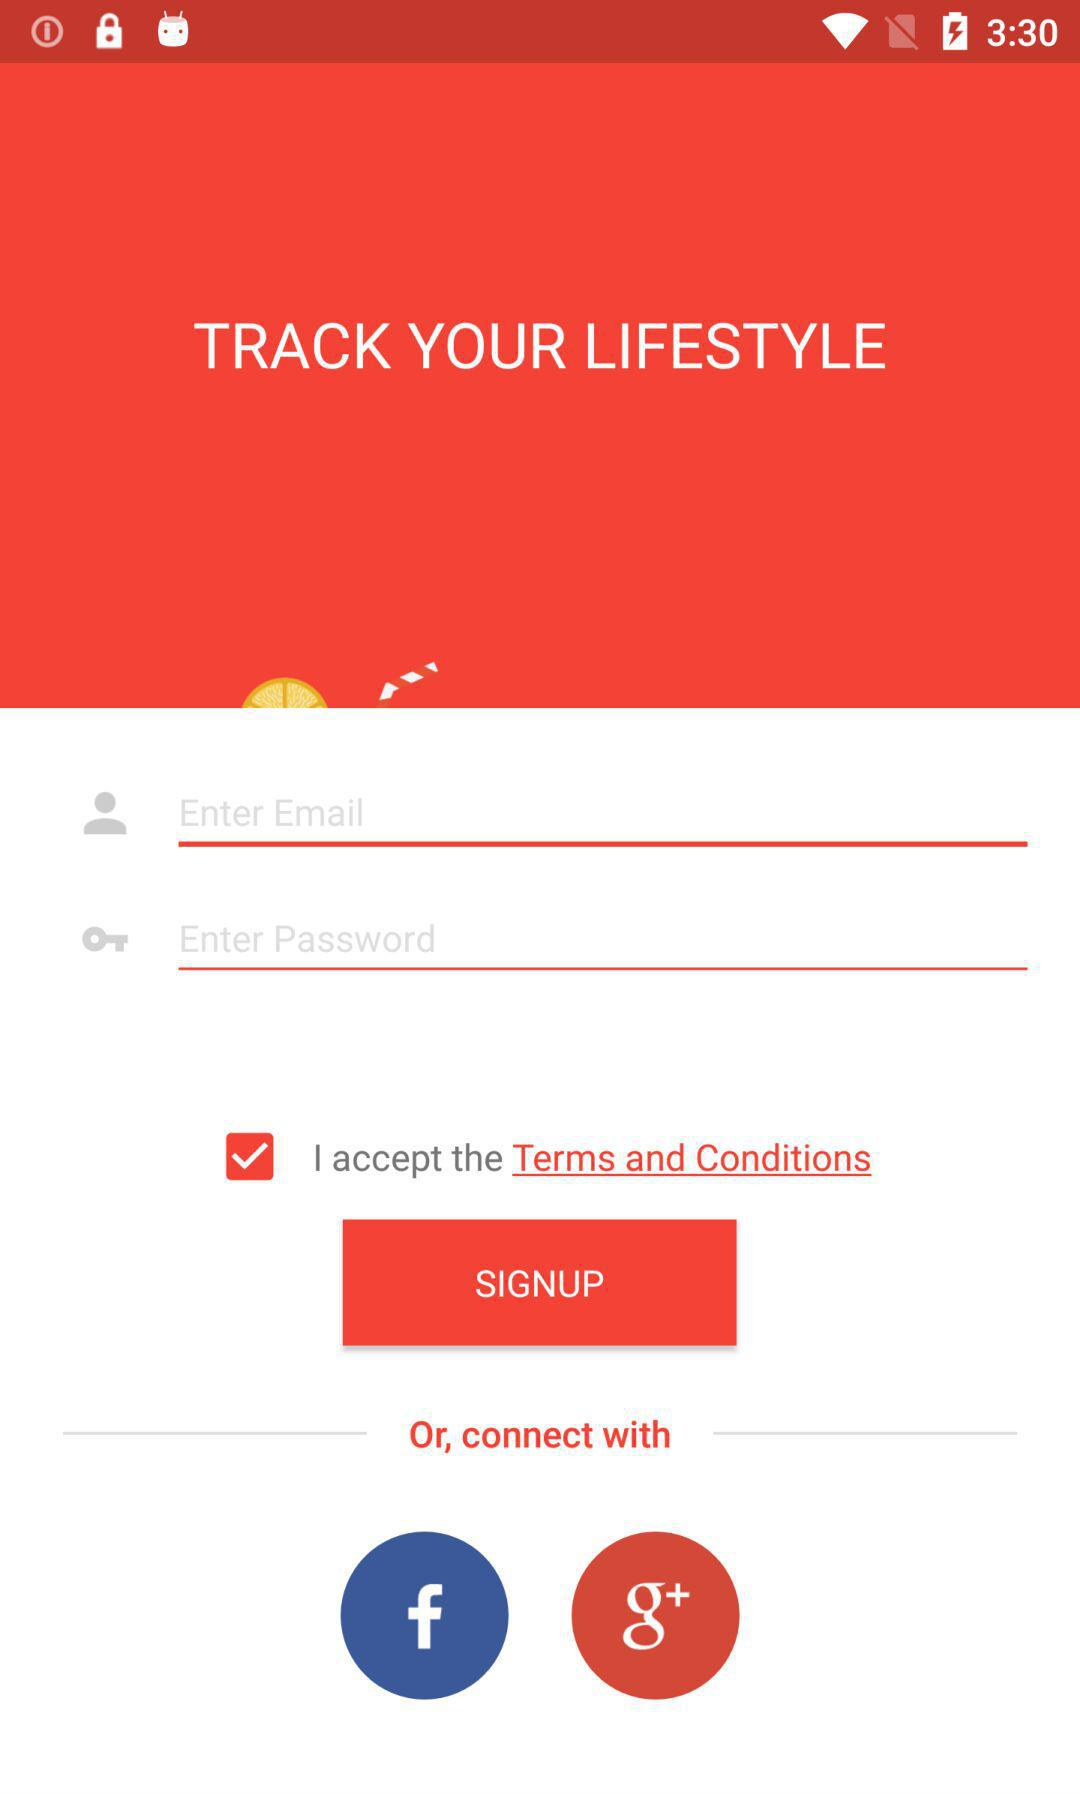CheckedTextView: (225, 1132, 874, 1181)
EditText: (178, 923, 1029, 973), (178, 798, 1027, 848)
Icon: (340, 1531, 510, 1700), (571, 1531, 740, 1700), (85, 792, 128, 835)
Image: (82, 926, 129, 953)
Text: (193, 322, 887, 370), (315, 1140, 874, 1180), (410, 1419, 671, 1454), (181, 924, 436, 953), (181, 798, 363, 827)
TextButton: (343, 1220, 737, 1347)
UpperTaskBar: (1, 1, 1080, 64)
